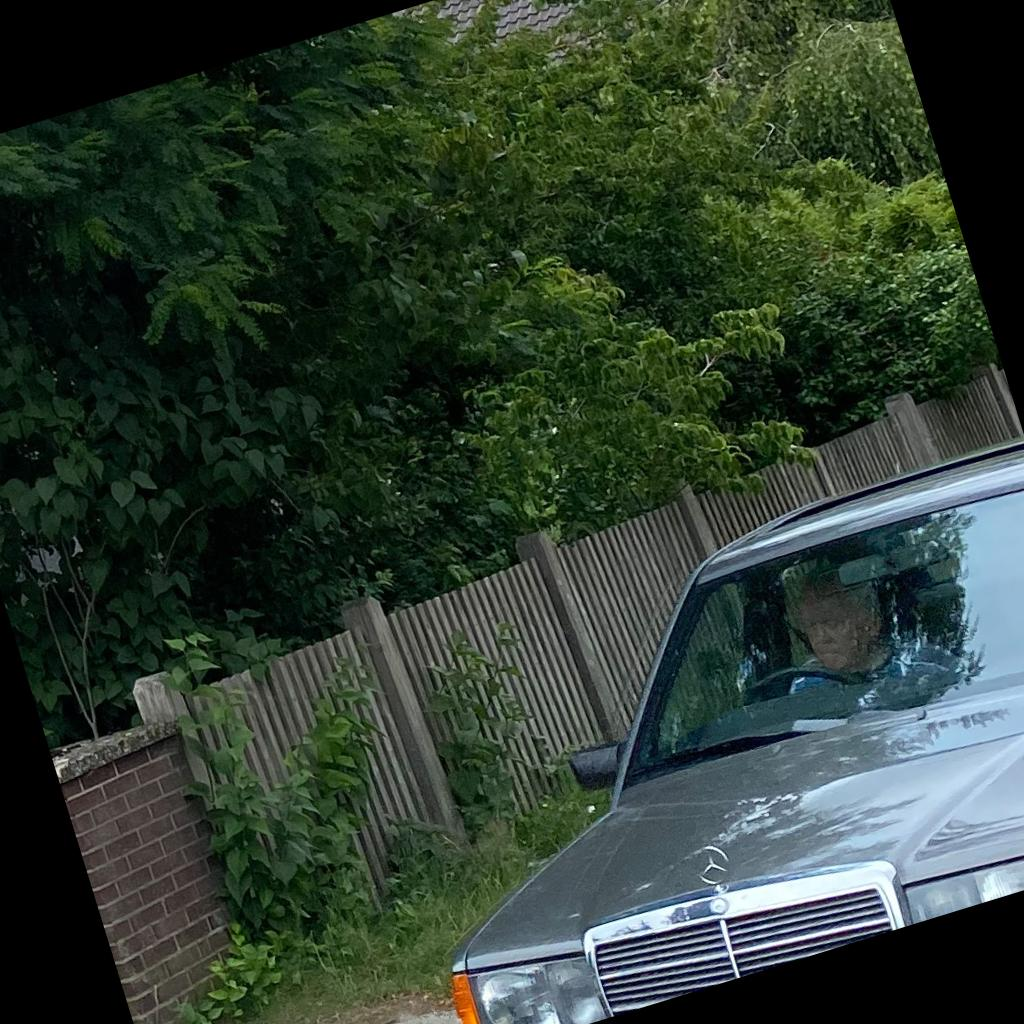tree: (1, 1, 526, 745)
